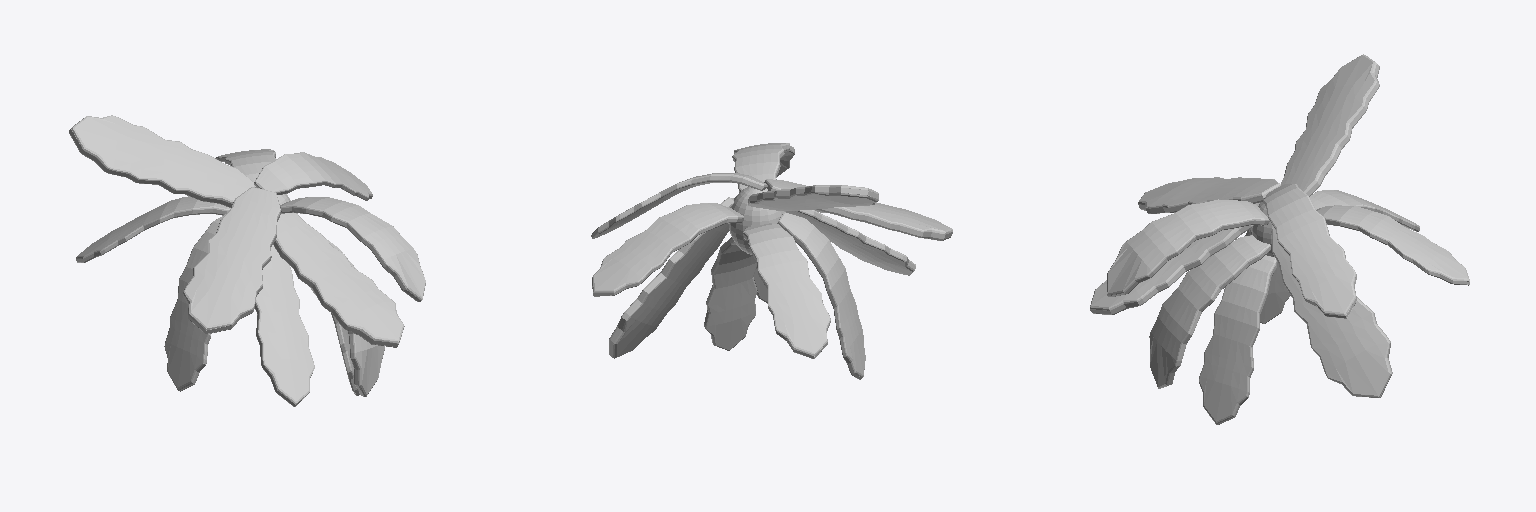
The model's file is palm tree top unwrapped.obj.
3 views of the same model, side by side, from view 1: azimuth 30°, elevation 25°; view 2: azimuth 150°, elevation 25°; view 3: azimuth 270°, elevation 25° (orthographic).
Parts seen in each view (by area): view 1: leaf5, leaf15, scene4:leaf4, leaf6, leaf8, leaf12, leaf14, leaf11, leaf9, leaf13, leaf10; view 2: leaf11, leaf13, leaf4, leaf12, leaf10, leaf15, leaf5, leaf6, leaf14, leaf8, palmTreeTop; view 3: leaf10, leaf14, leaf4, leaf15, leaf8, leaf9, leaf13, scene4:leaf4, leaf5, leaf11, leaf12.
Boxes of the visible parts, <box> form: leaf5: <box>183,187,280,334</box>; leaf15: <box>69,115,254,207</box>; scene4:leaf4: <box>273,213,404,347</box>; leaf6: <box>255,245,314,406</box>; leaf8: <box>280,197,425,301</box>; leaf12: <box>164,214,225,391</box>; leaf14: <box>254,152,372,200</box>; leaf11: <box>76,196,230,262</box>; leaf9: <box>326,239,384,396</box>; leaf13: <box>215,149,275,186</box>; leaf10: <box>331,313,359,395</box>; leaf11: <box>743,223,830,358</box>; leaf13: <box>592,203,743,296</box>; leaf4: <box>609,197,733,358</box>; leaf12: <box>777,212,865,379</box>; leaf10: <box>704,237,757,350</box>; leaf15: <box>748,185,878,210</box>; leaf5: <box>764,179,952,240</box>; leaf6: <box>786,210,915,275</box>; leaf14: <box>591,173,767,238</box>; leaf8: <box>732,143,794,191</box>; palmTreeTop: <box>729,187,785,254</box>; leaf10: <box>1199,255,1276,424</box>; leaf14: <box>1263,184,1356,318</box>; leaf4: <box>1271,227,1392,397</box>; leaf15: <box>1281,54,1379,196</box>; leaf8: <box>1107,199,1269,296</box>; leaf9: <box>1149,235,1270,388</box>; leaf13: <box>1316,205,1469,285</box>; scene4:leaf4: <box>1090,203,1259,314</box>; leaf5: <box>1138,177,1280,213</box>; leaf11: <box>1310,190,1419,231</box>; leaf12: <box>1245,229,1290,323</box>.
Size of the model in its own units: 352 by 316 by 404.